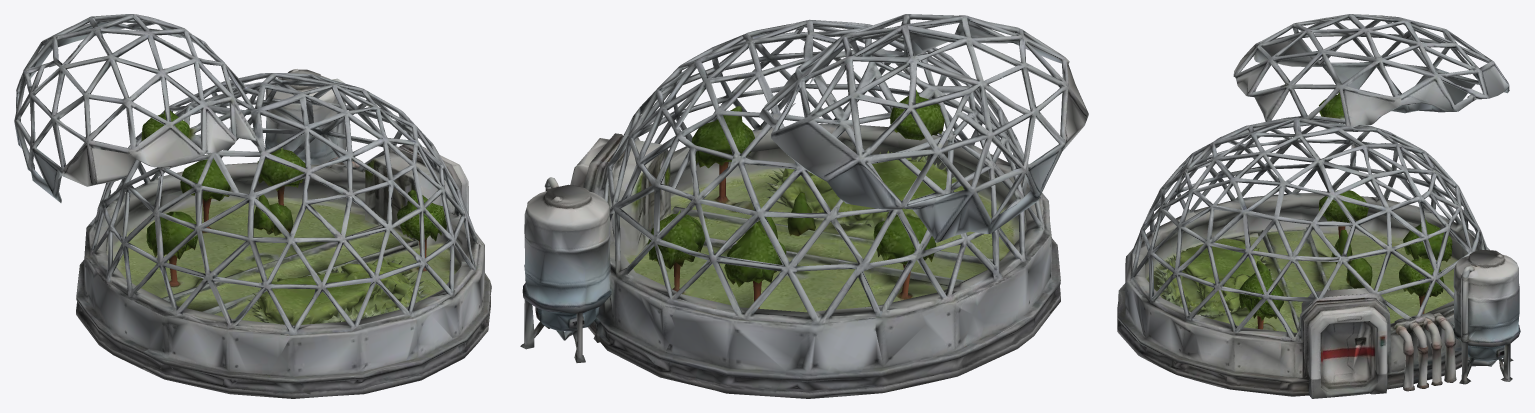
The model's file is haven-dome.glb.
The picture shows the model from 3 angles, left to right: view 1: azimuth 30°, elevation 25°; view 2: azimuth 150°, elevation 25°; view 3: azimuth 270°, elevation 25°; orthographic projection. The views are drawn at different scales.
Parts seen in each view (by area): view 1: tripo_node_376e8a6c-aa0d-4434-91ee-edf6c326c565; view 2: tripo_node_376e8a6c-aa0d-4434-91ee-edf6c326c565; view 3: tripo_node_376e8a6c-aa0d-4434-91ee-edf6c326c565.
Part boxes in pixels (x1=…): tripo_node_376e8a6c-aa0d-4434-91ee-edf6c326c565: x1=14, y1=14, x2=491, y2=398; tripo_node_376e8a6c-aa0d-4434-91ee-edf6c326c565: x1=520, y1=14, x2=1088, y2=398; tripo_node_376e8a6c-aa0d-4434-91ee-edf6c326c565: x1=1117, y1=14, x2=1520, y2=398.
Size of the model in its own units: 0.9991 by 0.6593 by 0.9786.
1 material, 1 textured.
